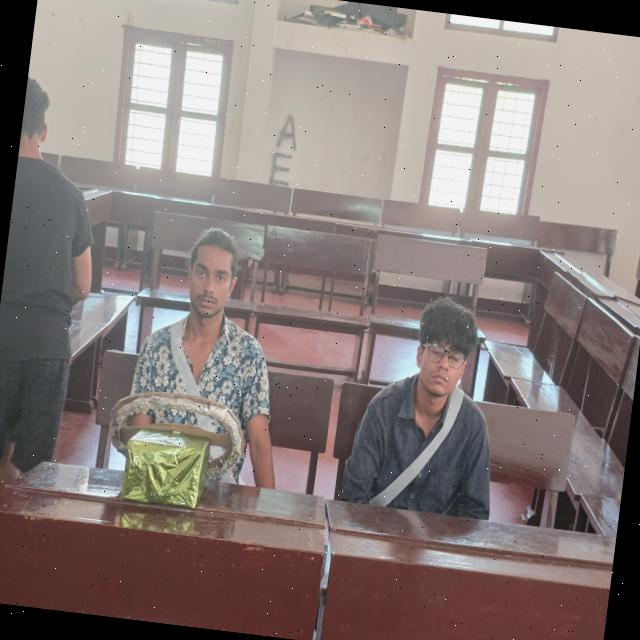seatbelt: (365, 380, 483, 511), (144, 316, 253, 410)
